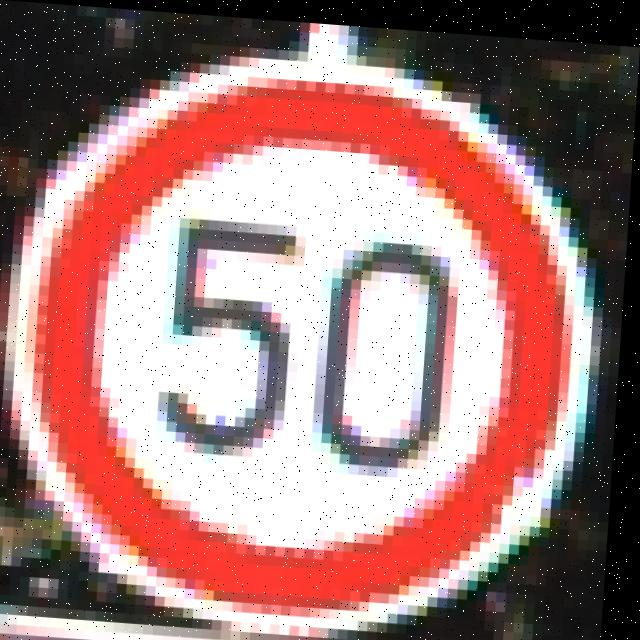speed_limit_50: (1, 44, 603, 640)
